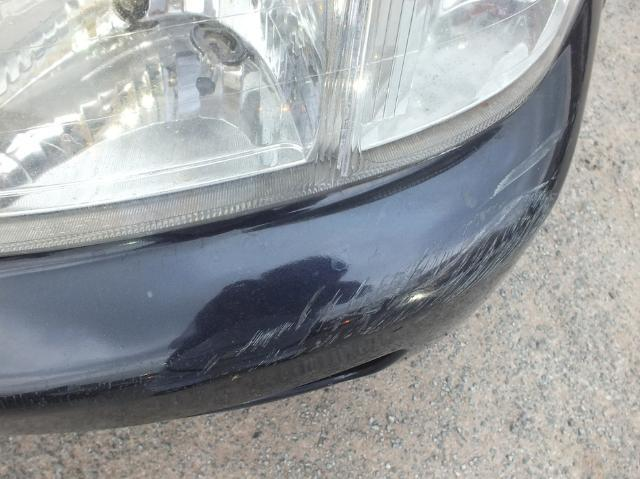Bumper: (158, 191, 561, 386)
